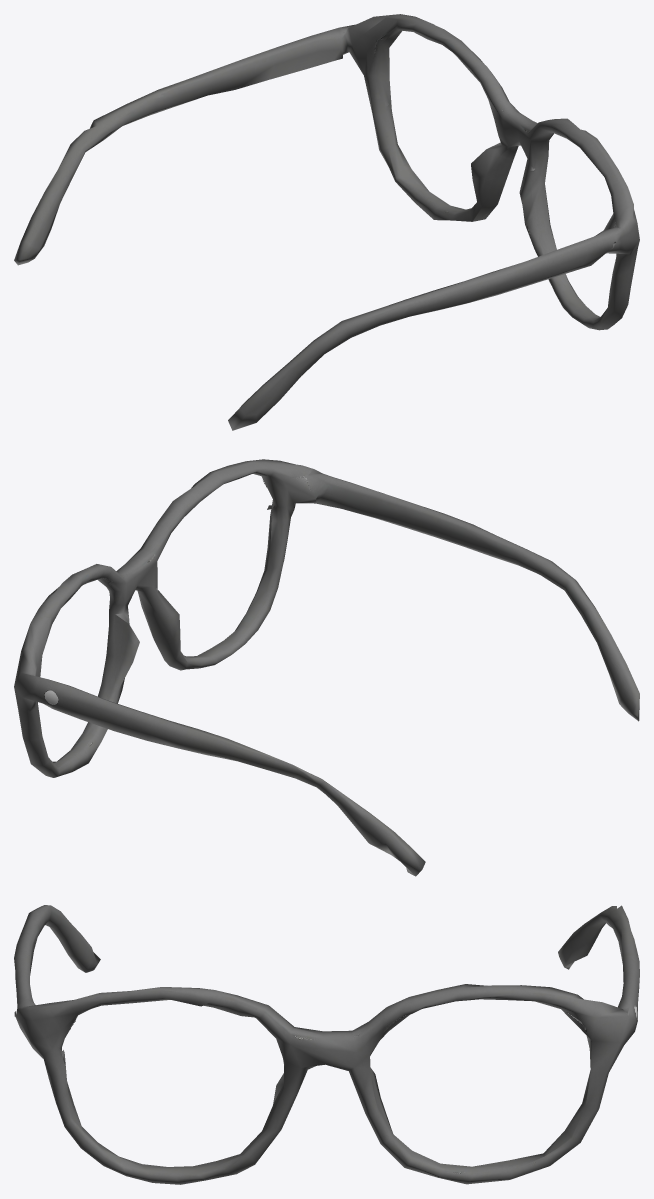
File: tripo_convert_44112d8f-bcaa-4b95-9a84-9c7ca62b731b.fbx
3 views of the same model, one above another, from view 1: azimuth 30°, elevation 25°; view 2: azimuth 150°, elevation 25°; view 3: azimuth 270°, elevation 25° (orthographic). The views are drawn at different scales.
Parts seen in each view (by area): view 1: tripo_node_44112d8f; view 2: tripo_node_44112d8f; view 3: tripo_node_44112d8f.
Boxes of the visible parts, left/top/right/bottom form: tripo_node_44112d8f: left=14, top=14, right=639, bottom=430; tripo_node_44112d8f: left=14, top=459, right=639, bottom=876; tripo_node_44112d8f: left=14, top=905, right=639, bottom=1184.
Bounding box in the file's own units: 0.8226 × 0.3475 × 0.9959.
